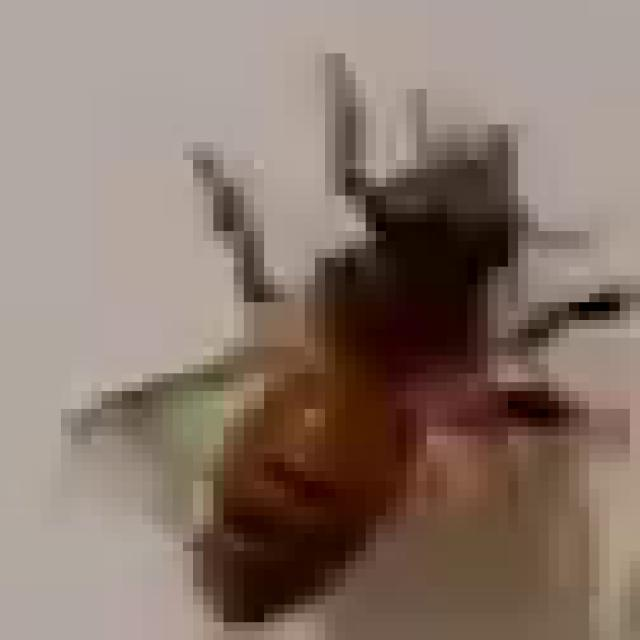honeybee: (215, 124, 572, 617)
